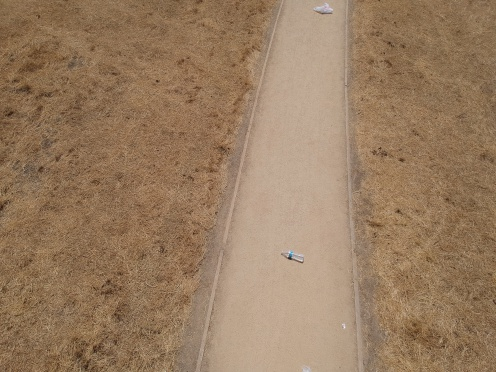bottle: (276, 242, 306, 265)
plastic bag: (309, 1, 336, 16)
